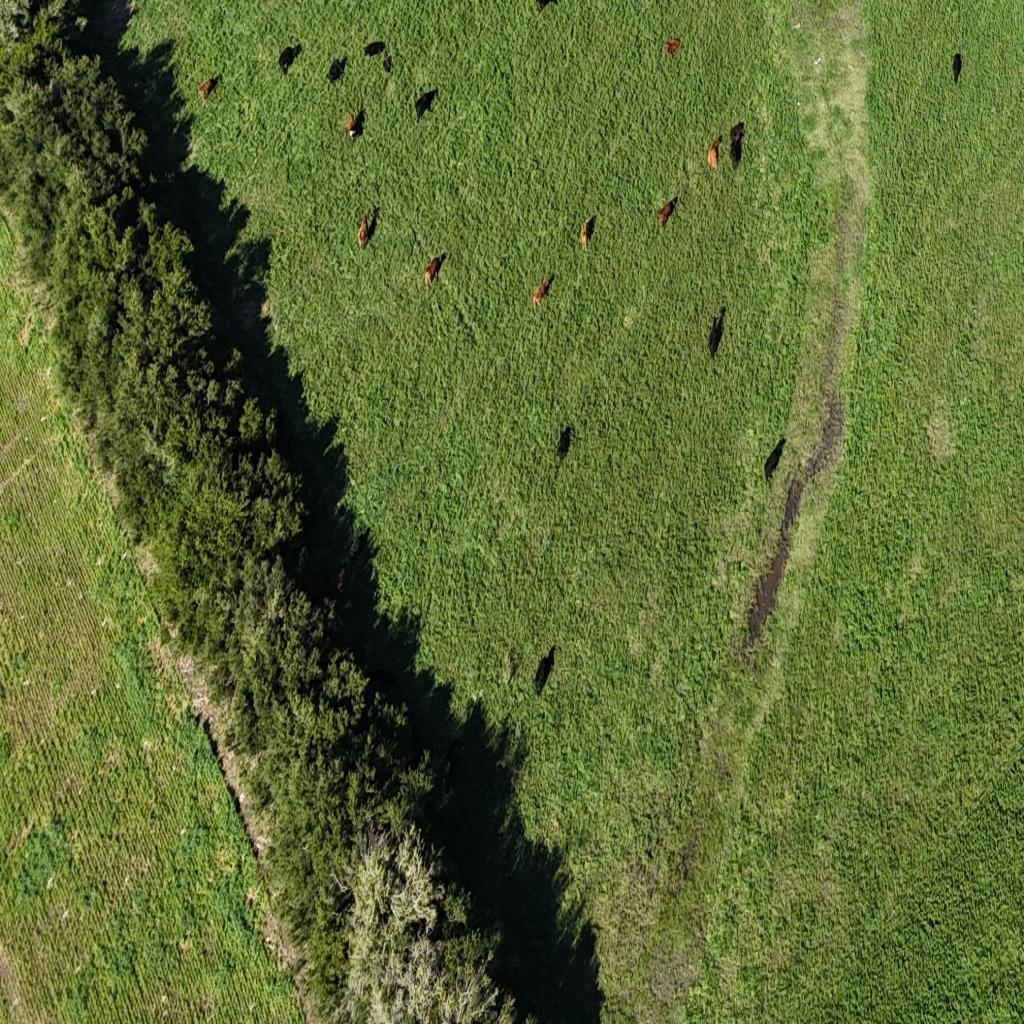cow: (368, 670, 400, 708), (335, 550, 358, 596), (764, 437, 786, 484), (707, 307, 725, 358), (534, 653, 551, 696), (414, 89, 436, 121), (554, 424, 572, 462), (423, 256, 443, 290), (579, 214, 596, 252), (532, 278, 552, 310), (443, 742, 460, 778), (346, 108, 363, 142), (198, 75, 218, 102), (659, 198, 676, 229), (366, 205, 379, 245), (729, 133, 742, 170), (327, 56, 343, 83), (707, 137, 720, 170), (357, 211, 368, 249), (278, 46, 294, 70), (363, 41, 385, 58), (379, 48, 393, 74), (951, 52, 962, 84), (730, 120, 743, 144), (665, 37, 680, 56), (533, 0, 551, 14)
